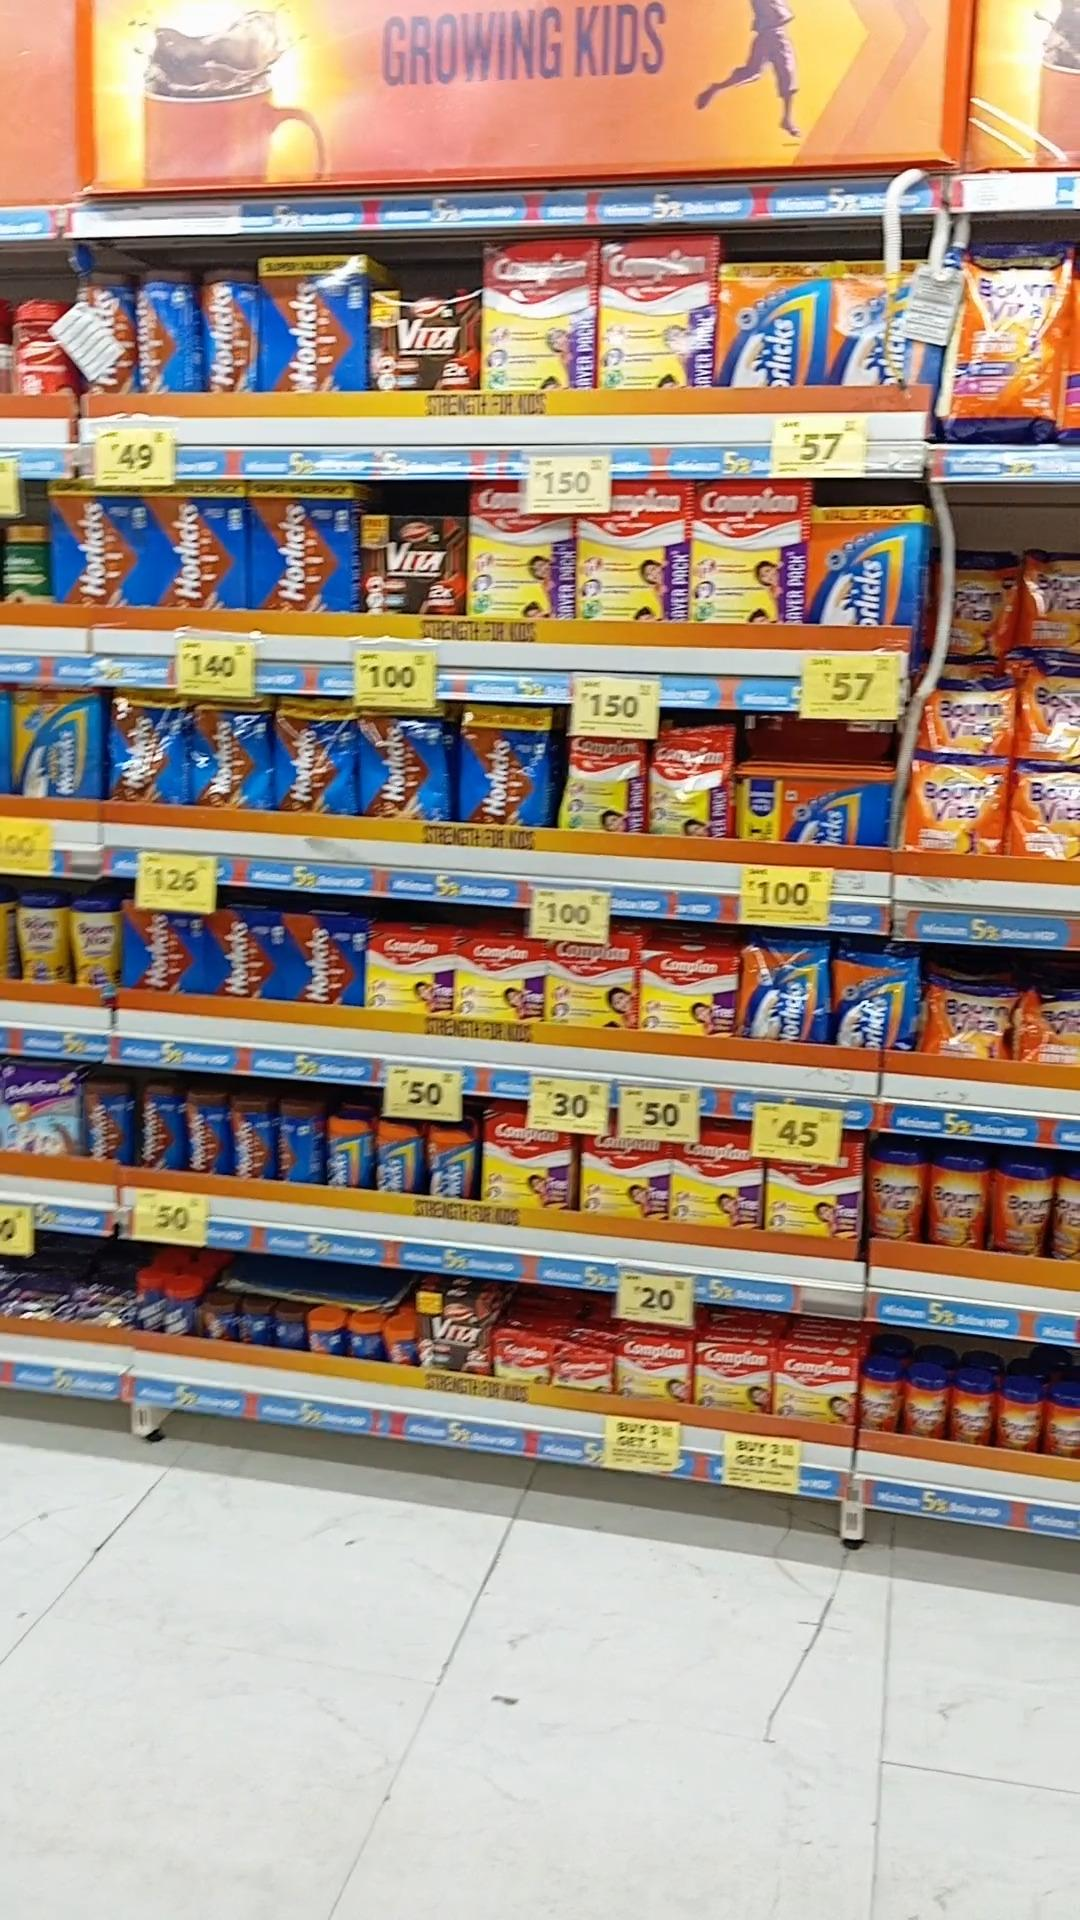BOURN_VITA_1_KG_POUCH: (949, 240, 1064, 439)
BOURN_VITA_200_G_JAR: (948, 1375, 996, 1445), (998, 1378, 1042, 1452), (858, 1365, 905, 1429), (905, 1370, 945, 1439), (1044, 1386, 1080, 1457)
BOURN_VITA_500_G_JAR: (927, 1150, 988, 1247), (997, 1159, 1055, 1257), (865, 1149, 923, 1245)
BOURN_VITA_500_G_POUCH: (910, 752, 1009, 853), (940, 555, 1017, 658), (1014, 760, 1080, 858), (1017, 553, 1080, 655), (930, 978, 1007, 1062), (931, 679, 1014, 750), (1027, 661, 1080, 758), (1023, 984, 1080, 1059)
BOURN_VITA_CHAMPS_500_G_JAR: (18, 893, 71, 985), (74, 899, 119, 1002)
COMPLAN_CHOCOLATE_200_GMS_PACK: (616, 1336, 690, 1400)
COMPLAN_CHOCOLATE_500_GMS_PACK: (481, 1108, 568, 1209), (455, 936, 542, 1023), (369, 931, 451, 1011)
COMPLAN_KESAR_BADAM_200_GMS_PACK: (696, 1346, 771, 1414)
COMPLAN_KESAR_BADAM_500_GMS_PACK: (640, 949, 736, 1038)
COMPLAN_RC_POUCH_700_GMS_12: (649, 729, 733, 835), (566, 736, 644, 831)
HORLICK_CHOCOLATE_1_KG_JAR: (75, 269, 133, 394), (198, 272, 256, 394), (132, 266, 179, 396)
HORLICK_CHOCOLATE_1_KG_PACK: (247, 479, 355, 613), (261, 255, 365, 390), (54, 476, 152, 605), (152, 479, 243, 609)
HORLICK_CHOCOLATE_500_G_JAR: (231, 1096, 276, 1183), (187, 1091, 231, 1174), (137, 1087, 178, 1171), (90, 1087, 132, 1164), (278, 1100, 310, 1182)
HORLICK_CHOCOLATE_500_G_PACK: (206, 907, 284, 1004), (289, 916, 361, 1009), (124, 902, 193, 998)
HORLICK_CHOCOLATE_750_G_POUCH: (460, 703, 546, 827), (189, 692, 273, 811), (360, 708, 447, 822), (278, 698, 357, 815), (109, 690, 183, 807)
HORLICK_CLASSIC_MALT_500_G_JAR: (324, 1106, 372, 1192), (425, 1120, 473, 1197), (377, 1116, 421, 1195)
HORLICK_CLASSIC_MALT_500_G_PACK: (803, 504, 922, 625), (716, 262, 827, 388), (832, 261, 932, 385)
HORLICK_CLASSIC_MALT_750_G_POUCH: (738, 939, 827, 1048), (832, 949, 914, 1054)
PEDIASURE_7_PLUS_CHOCOLATE_400_G_PACK: (0, 1067, 78, 1156)
